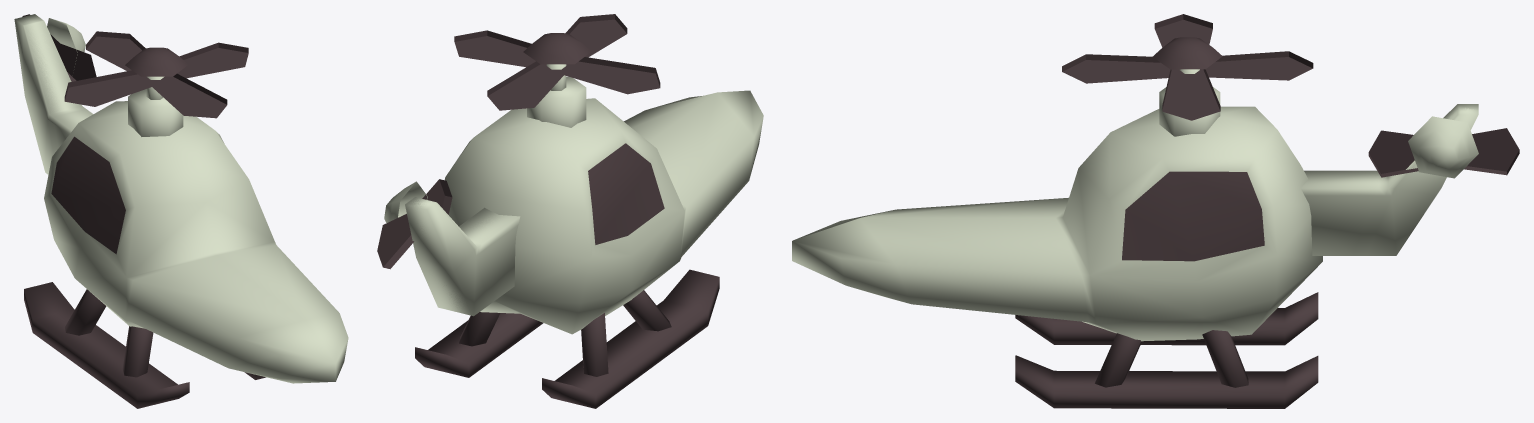
Rendered from helicopter.glb.
The picture shows the model from 3 angles, left to right: view 1: azimuth 30°, elevation 25°; view 2: azimuth 150°, elevation 25°; view 3: azimuth 270°, elevation 25°; orthographic projection. The views are drawn at different scales.
Visible parts, largest first — view 1: Sphere.006, Sphere.005, Sphere.007; view 2: Sphere.006, Sphere.005, Sphere.007; view 3: Sphere.006, Sphere.005, Sphere.007.
Boxes of the visible parts, x1,y1,x2,y2 form: Sphere.006: (14, 14, 348, 408); Sphere.005: (64, 31, 248, 118); Sphere.007: (22, 14, 96, 81); Sphere.006: (384, 64, 763, 408); Sphere.005: (454, 14, 660, 110); Sphere.007: (377, 179, 452, 269); Sphere.006: (792, 69, 1478, 408); Sphere.005: (1062, 14, 1313, 120); Sphere.007: (1368, 128, 1519, 177).
Size of the model in its own units: 2.76 by 4.16 by 8.4.
